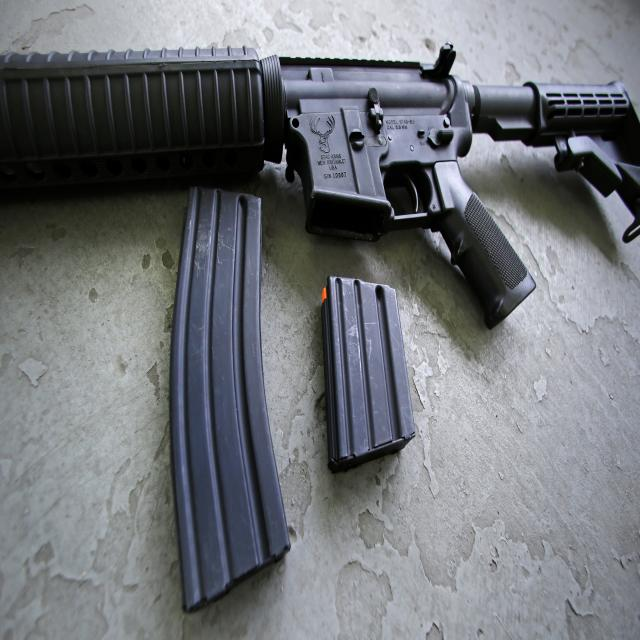Rifle: (0, 45, 640, 328)
